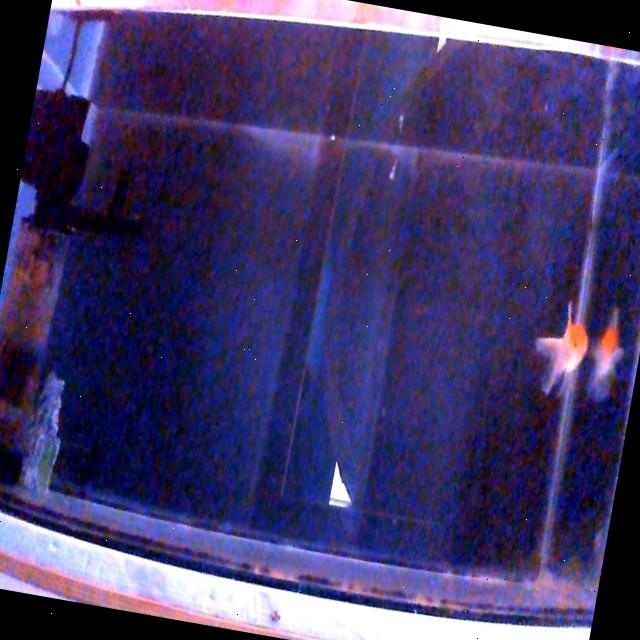fish: (526, 295, 594, 399), (582, 306, 632, 402)
